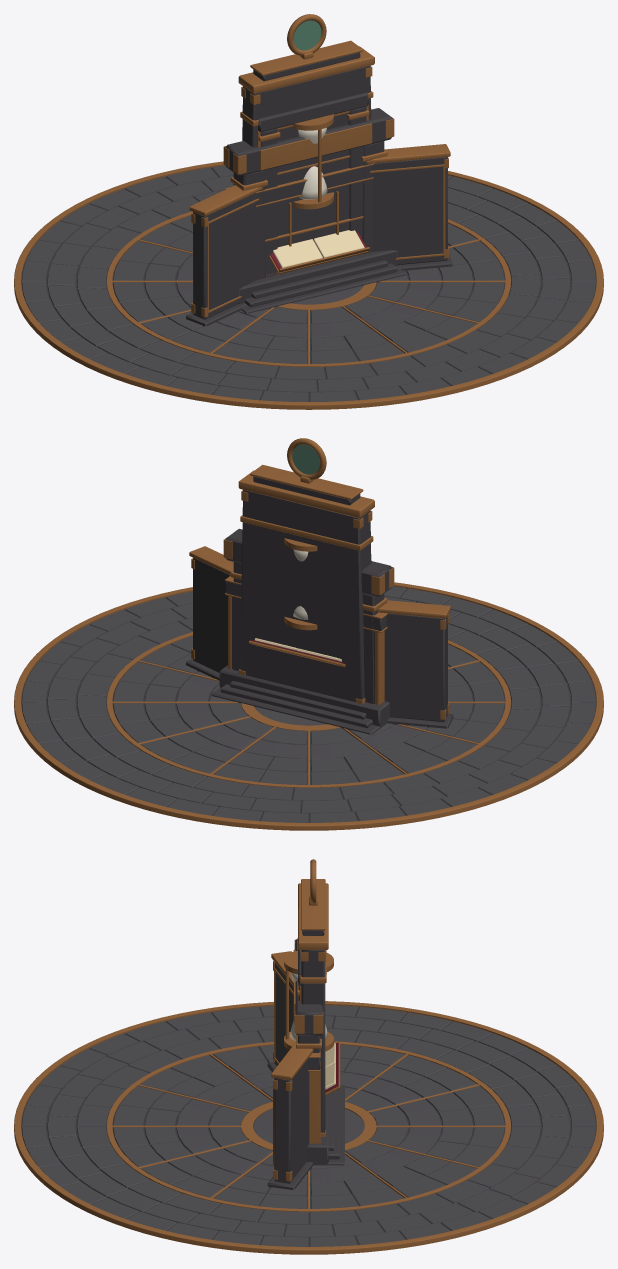
File: HallOfRecords.fbx
The picture shows the model from 3 angles, top to bottom: view 1: azimuth 30°, elevation 25°; view 2: azimuth 150°, elevation 25°; view 3: azimuth 270°, elevation 25°; orthographic projection.
Visible parts, largest first — view 1: HR_Court__Flagstone, HR_FirstsWall__Basalt, HR_Court__Bronze, HR_Stele__Basalt, HR_Stele__Bronze, HR_Trilithon__Basalt, HR_Hourglass__Basalt, HR_FirstsWall__Bronze, HR_Trilithon__Bronze, HR_Showcase__Basalt, HR_Court__Basalt, HR_Lectern__Parchment (+5 smaller); view 2: HR_Court__Flagstone, HR_Stele__Basalt, HR_Court__Bronze, HR_FirstsWall__Basalt, HR_Stele__Bronze, HR_Trilithon__Basalt, HR_Showcase__Basalt, HR_Court__Basalt, HR_FirstsWall__Bronze, HR_Showcase__Bronze, HR_Trilithon__Bronze, HR_Stele__Patina (+1 smaller); view 3: HR_Court__Flagstone, HR_Court__Bronze, HR_FirstsWall__Basalt, HR_Stele__Basalt, HR_Stele__Bronze, HR_Court__Basalt, HR_FirstsWall__Bronze, HR_Hourglass__Bronze, HR_Showcase__Bronze, HR_Trilithon__Basalt, HR_Showcase__Basalt, HR_Trilithon__Bronze.
Part boxes in pixels (left/top/right/bottom): HR_Court__Flagstone: left=21, top=165, right=596, bottom=401; HR_FirstsWall__Basalt: left=186, top=149, right=453, bottom=326; HR_Court__Bronze: left=14, top=161, right=603, bottom=409; HR_Stele__Basalt: left=241, top=52, right=406, bottom=313; HR_Stele__Bronze: left=238, top=14, right=374, bottom=147; HR_Trilithon__Basalt: left=225, top=108, right=392, bottom=279; HR_Hourglass__Basalt: left=258, top=92, right=368, bottom=277; HR_FirstsWall__Bronze: left=189, top=144, right=450, bottom=317; HR_Trilithon__Bronze: left=223, top=117, right=394, bottom=190; HR_Showcase__Basalt: left=238, top=167, right=397, bottom=304; HR_Court__Basalt: left=21, top=168, right=596, bottom=401; HR_Lectern__Parchment: left=273, top=230, right=364, bottom=267; HR_Court__Flagstone: left=21, top=586, right=596, bottom=822; HR_Stele__Basalt: left=211, top=476, right=387, bottom=734; HR_Court__Bronze: left=14, top=582, right=603, bottom=830; HR_FirstsWall__Basalt: left=186, top=558, right=453, bottom=728; HR_Stele__Bronze: left=238, top=438, right=374, bottom=703; HR_Trilithon__Basalt: left=225, top=528, right=392, bottom=703; HR_Showcase__Basalt: left=219, top=581, right=390, bottom=727; HR_Court__Basalt: left=21, top=589, right=596, bottom=822; HR_FirstsWall__Bronze: left=189, top=546, right=450, bottom=719; HR_Showcase__Bronze: left=225, top=576, right=387, bottom=705; HR_Trilithon__Bronze: left=223, top=538, right=394, bottom=611; HR_Stele__Patina: left=292, top=444, right=319, bottom=474; HR_Court__Flagstone: left=21, top=1005, right=596, bottom=1246; HR_Court__Bronze: left=14, top=1001, right=603, bottom=1254; HR_FirstsWall__Basalt: left=267, top=962, right=313, bottom=1189; HR_Stele__Basalt: left=273, top=930, right=344, bottom=1165; HR_Stele__Bronze: left=298, top=859, right=328, bottom=1136; HR_Court__Basalt: left=21, top=1007, right=596, bottom=1246; HR_FirstsWall__Bronze: left=271, top=951, right=313, bottom=1181; HR_Hourglass__Bronze: left=284, top=938, right=333, bottom=1051; HR_Showcase__Bronze: left=308, top=1049, right=320, bottom=1143; HR_Trilithon__Basalt: left=295, top=938, right=322, bottom=1052; HR_Showcase__Basalt: left=307, top=1058, right=328, bottom=1165; HR_Trilithon__Bronze: left=293, top=939, right=323, bottom=1048.
Size of the model in its own units: 54 by 27.5 by 54.
